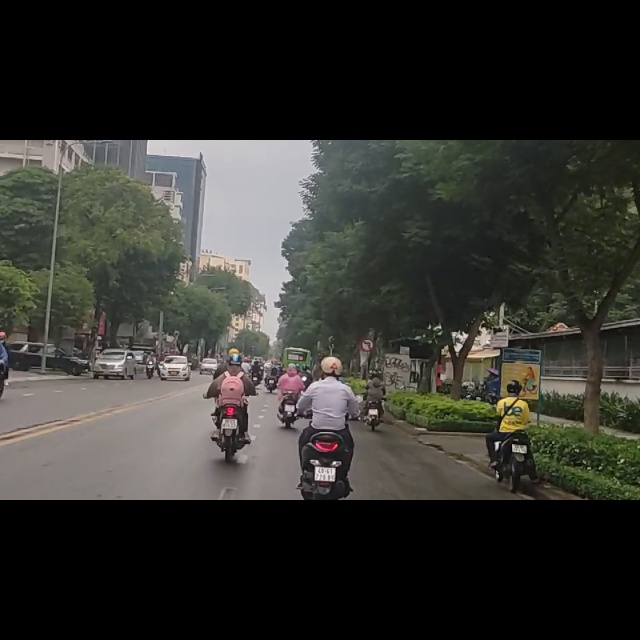Cấm rẽ trái: (361, 338, 373, 352)
